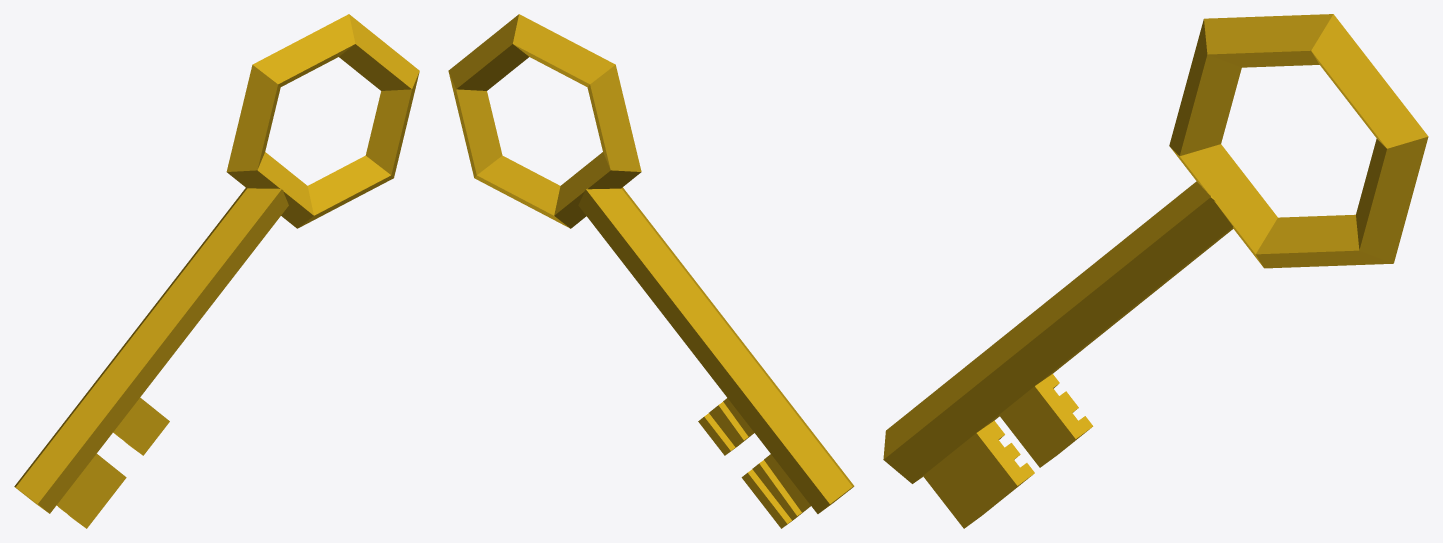
File: key.glb
3 renders of one model, left to right at view 1: azimuth 30°, elevation 25°; view 2: azimuth 150°, elevation 25°; view 3: azimuth 330°, elevation 25°, orthographic. The views are drawn at different scales.
Visible parts, largest first — view 1: Clef; view 2: Clef; view 3: Clef.
Part boxes in pixels (<box>): Clef: <box>14,14,419,528</box>; Clef: <box>448,14,854,528</box>; Clef: <box>883,14,1428,528</box>.
Bounding box in the file's own units: 0.4039 × 0.4244 × 0.0418.
